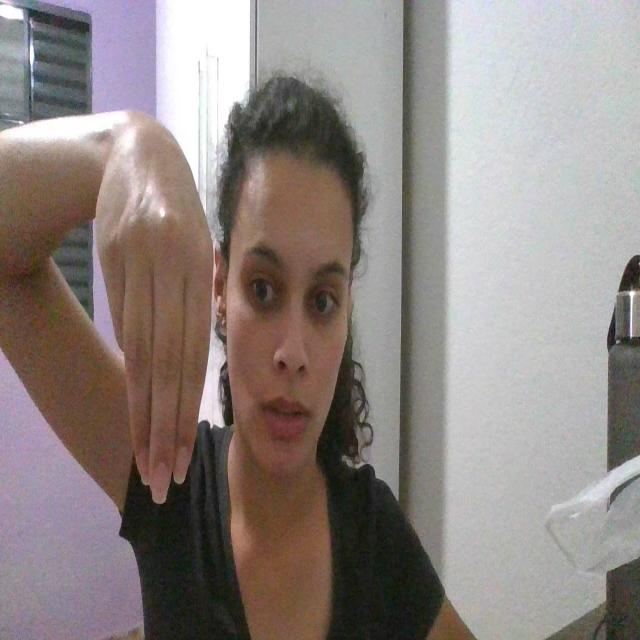M: (96, 103, 221, 512)
